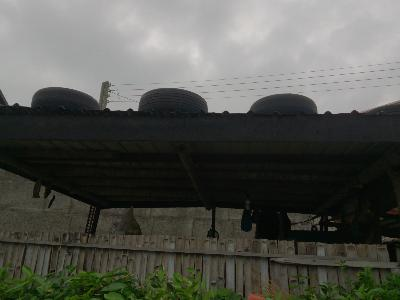tire: (138, 87, 209, 115), (30, 86, 101, 113), (251, 93, 319, 116)
